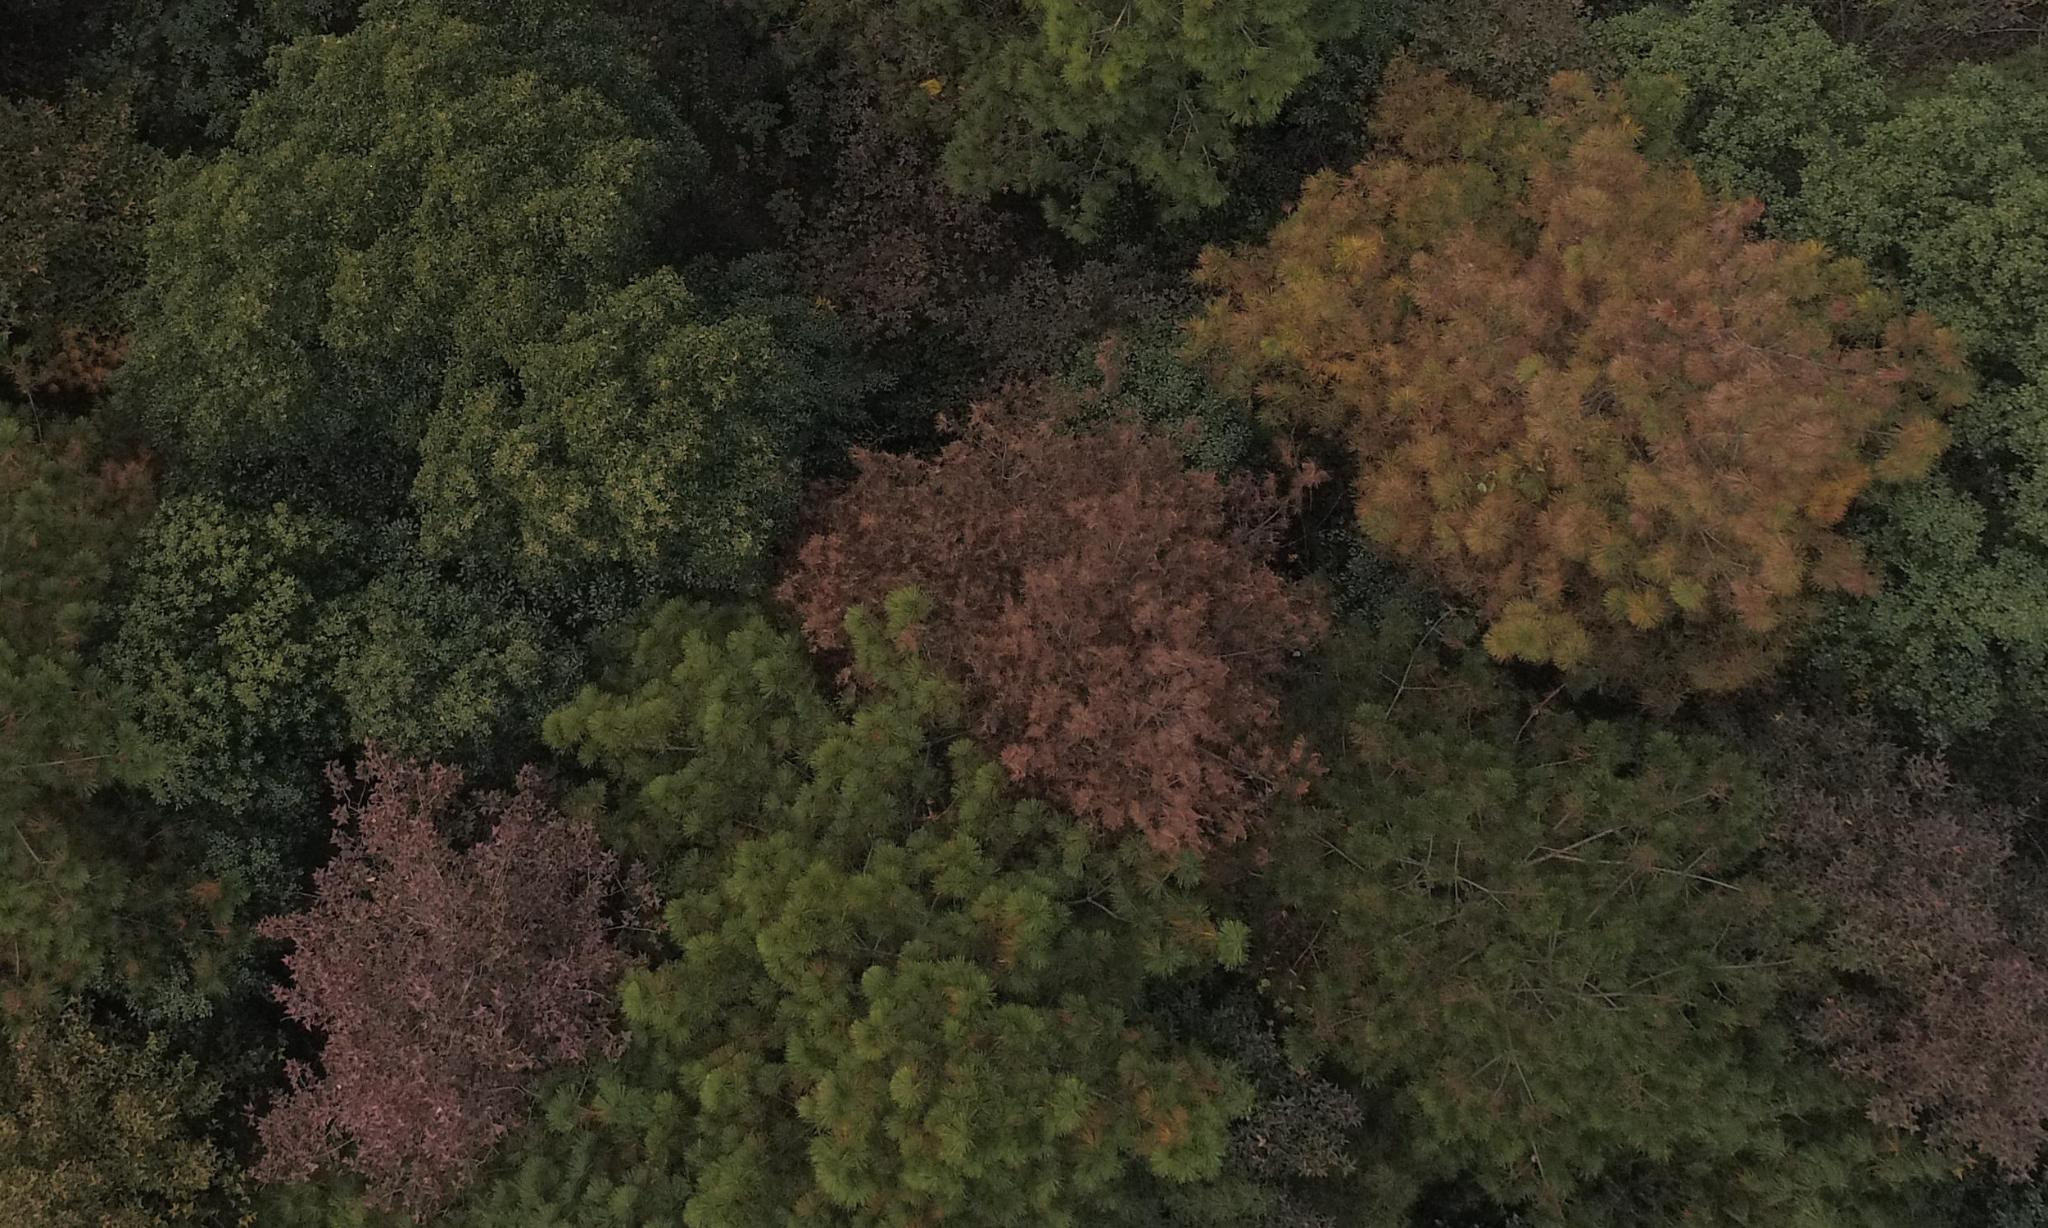heavy: (779, 364, 1285, 855)
light: (1313, 72, 1973, 674)
